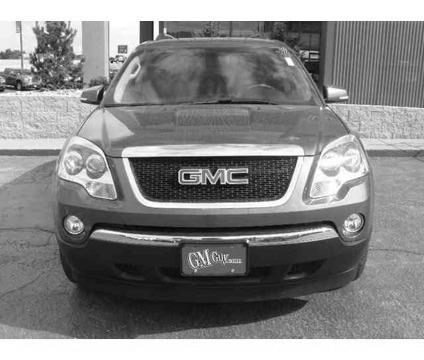car: (52, 41, 377, 307)
